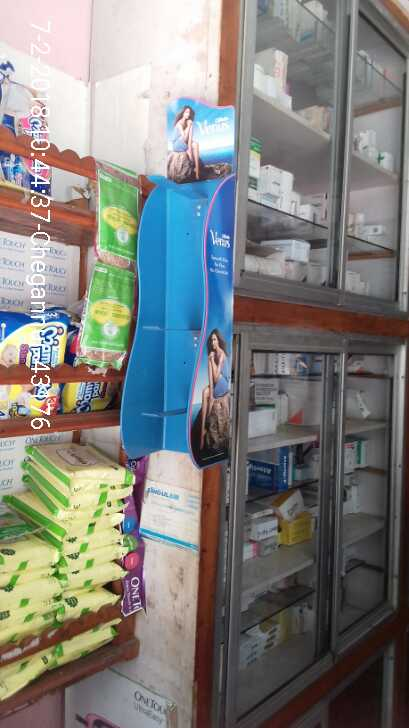reject: (181, 295, 253, 353)
